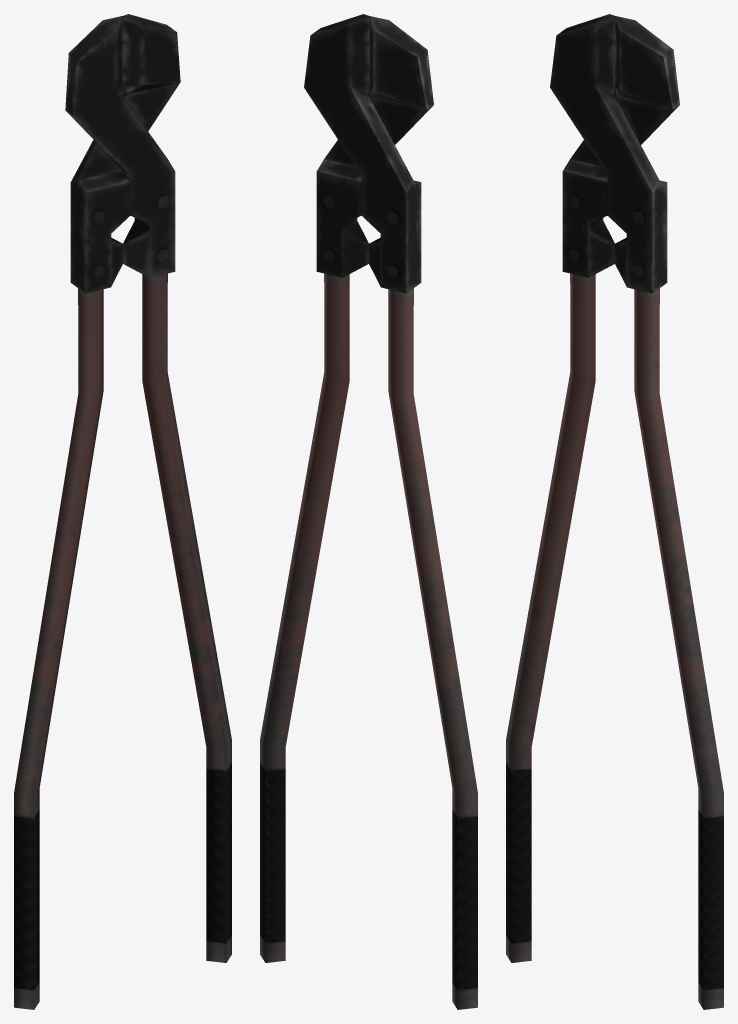
File: BoltCutters_Refab.fbx
3 renders of one model, left to right at view 1: azimuth 30°, elevation 25°; view 2: azimuth 150°, elevation 25°; view 3: azimuth 330°, elevation 25°, orthographic.
Visible parts, largest first — view 1: Blade_Right, Blade_Left; view 2: Blade_Left, Blade_Right; view 3: Blade_Right, Blade_Left.
Boxes of the visible parts, x1,y1,x2,y2 form: Blade_Right: [65, 16, 231, 962]; Blade_Left: [14, 14, 180, 1009]; Blade_Left: [304, 14, 477, 1009]; Blade_Right: [260, 16, 433, 962]; Blade_Right: [550, 14, 723, 1009]; Blade_Left: [506, 16, 679, 962].
Bounding box in the file's own units: 34 × 144 × 4.6.
1 material, 1 textured.
